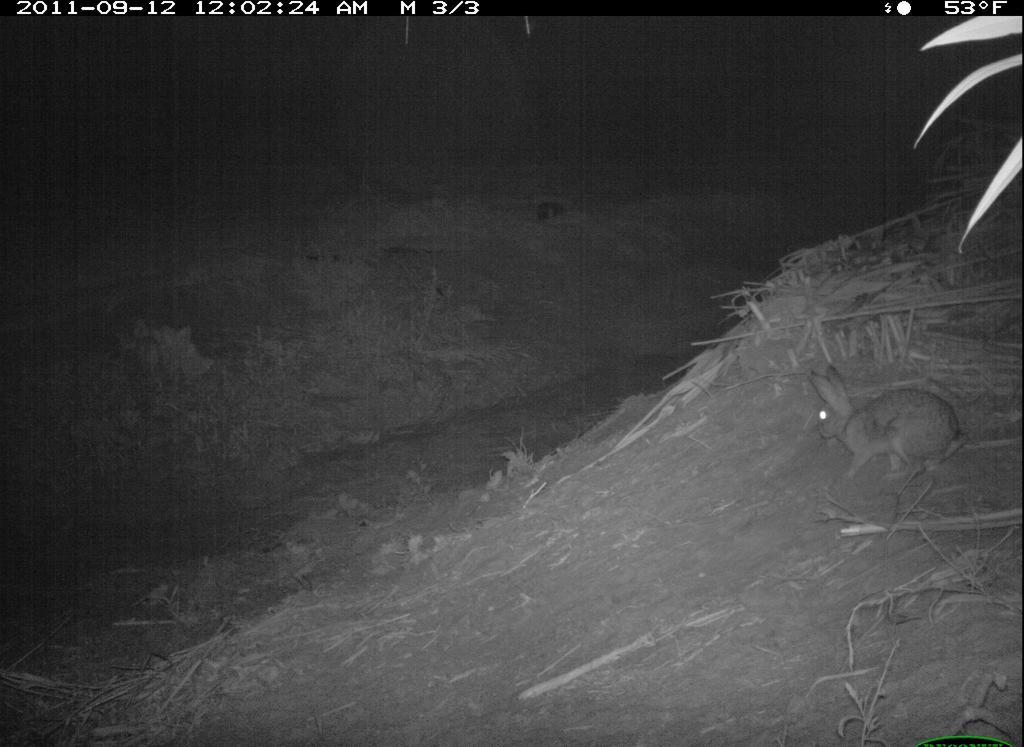rabbit: (784, 361, 978, 493)
